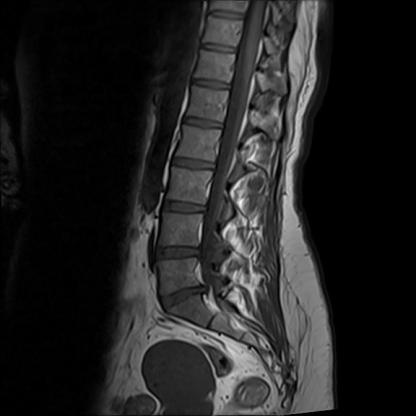Degenerative Disc Diseaserotation: (160, 285, 209, 307)
Disc Herniationrotation: (159, 285, 208, 306)
